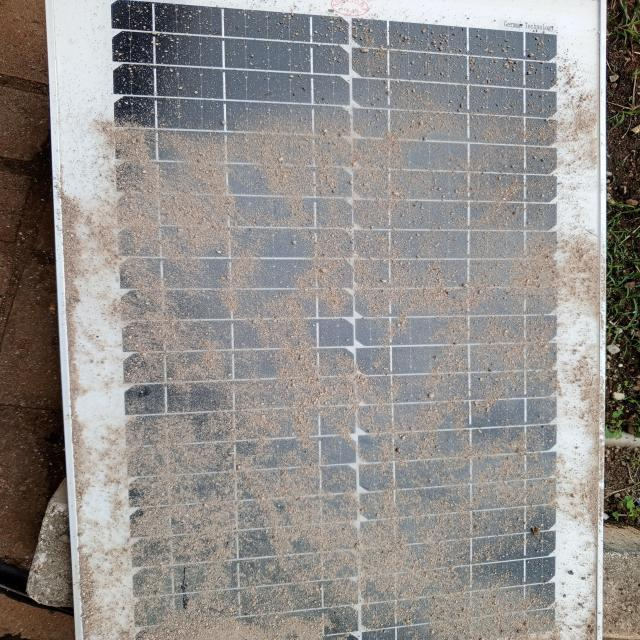Anomaly Solar Panel: (69, 3, 596, 638)
Surface Contaminant: (90, 15, 585, 639)
